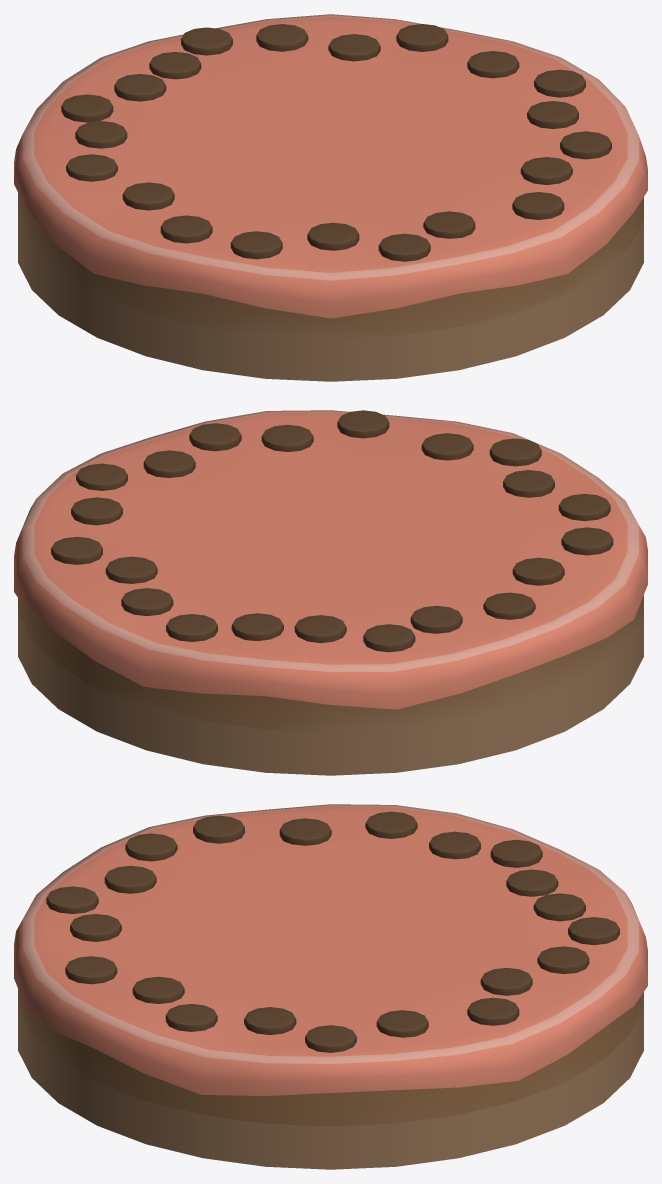
The model's file is Pastel_1.FBX.
3 renders of one model, top to bottom at view 1: azimuth 30°, elevation 25°; view 2: azimuth 150°, elevation 25°; view 3: azimuth 270°, elevation 25°, orthographic.
Parts seen in each view (by area): view 1: Grande; view 2: Grande; view 3: Grande.
Part boxes in pixels (bbox=[...]): Grande: bbox=[14, 14, 647, 381]; Grande: bbox=[14, 410, 647, 775]; Grande: bbox=[14, 804, 647, 1169].
Size of the model in its own units: 206 by 204 by 40.2.
